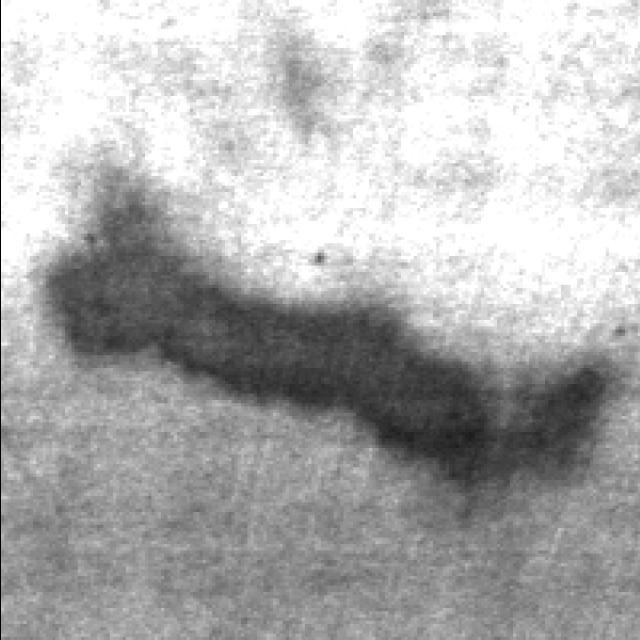patches: (41, 172, 613, 504)
